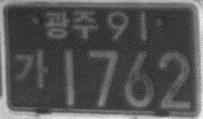1: (61, 47, 77, 108), (136, 8, 150, 44)
2: (157, 49, 192, 112)
6: (122, 49, 155, 108)
7: (87, 47, 119, 109)
9: (106, 9, 130, 42)
가: (14, 48, 49, 90)
광주_O: (43, 8, 98, 42)
